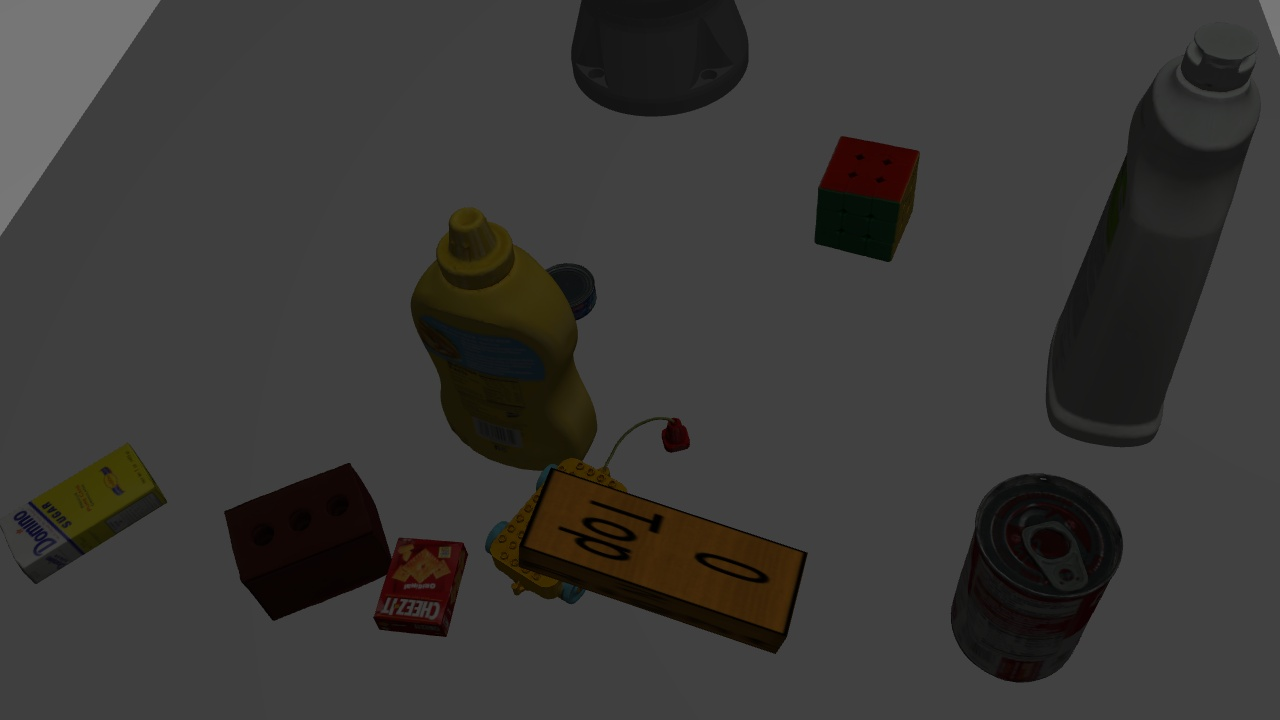jenga: (523, 472, 792, 659)
mustard_bottle: (419, 215, 599, 458), (218, 211, 407, 239)
rubiks_cube: (814, 128, 917, 261)
tomato_soup_can: (953, 475, 1114, 675)
